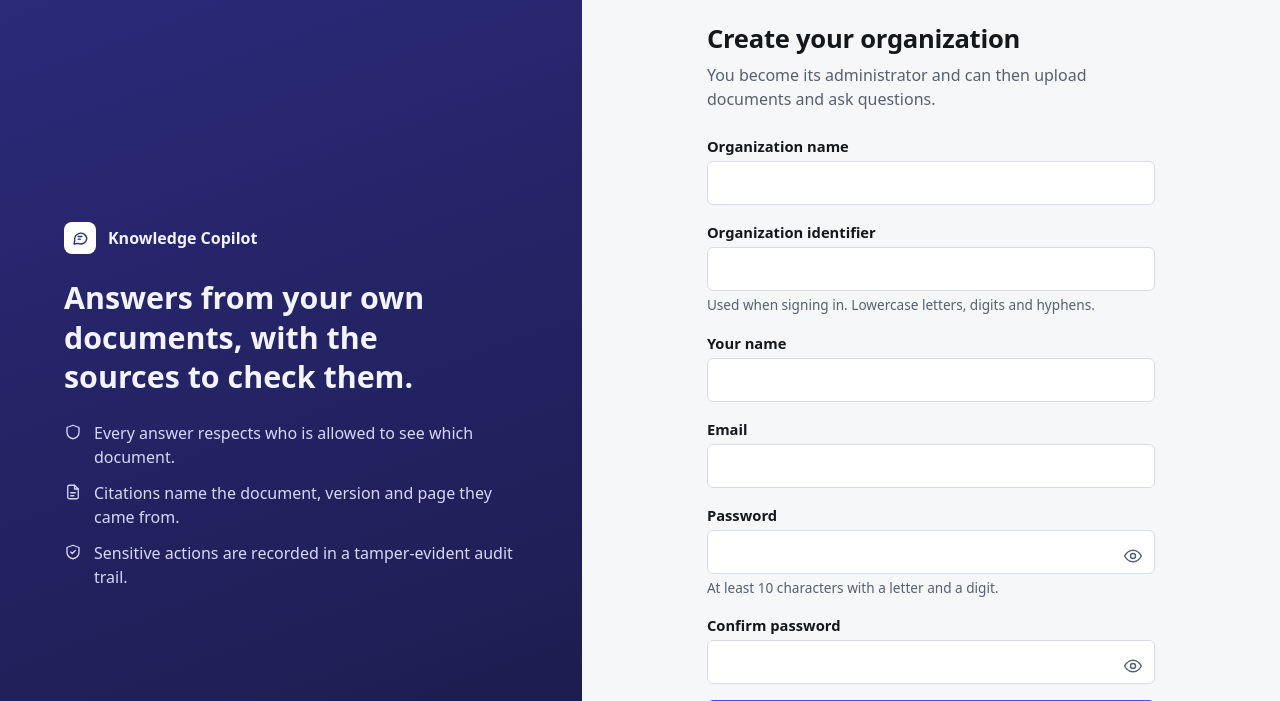
Scenario: signup › shows a taken identifier on its own field and clears the passwords
Type "Acme Inc" into the field labelled "Organization name" at (931, 183), box x1=707 y1=161 x2=1155 y2=205
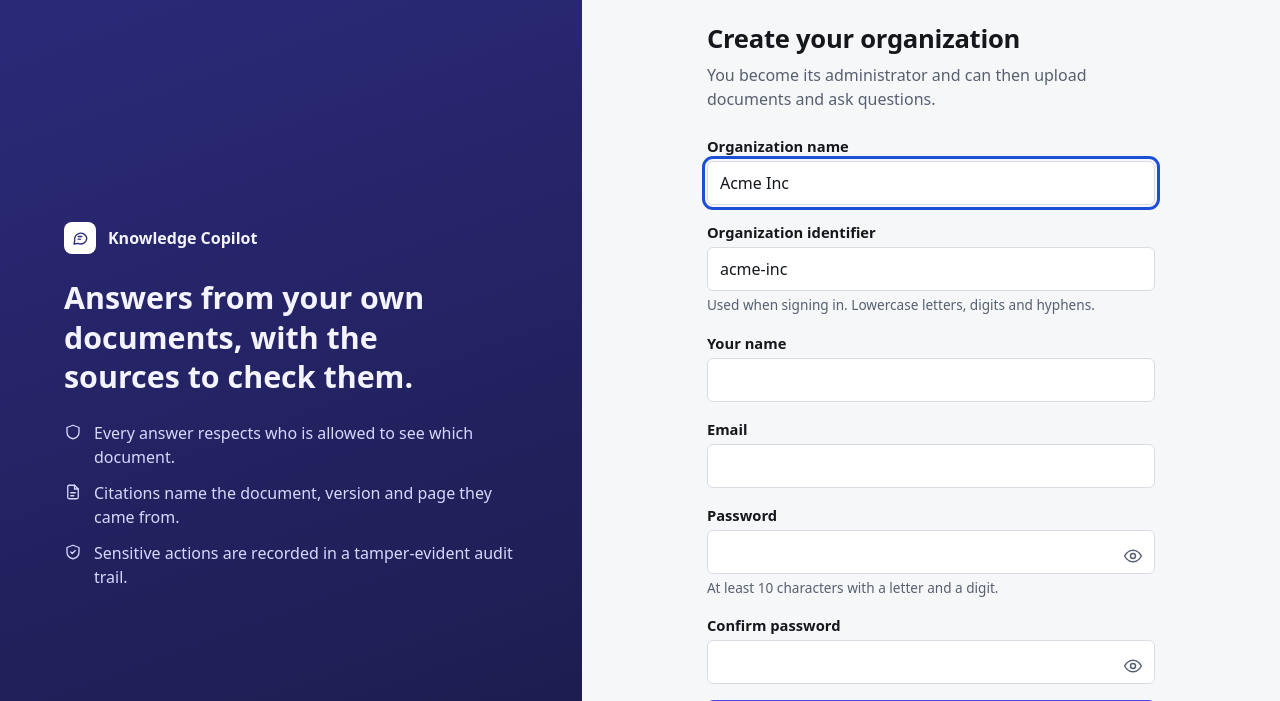
Type "Ada Lovelace" into the field labelled "Your name" at (931, 380), box x1=707 y1=358 x2=1155 y2=402
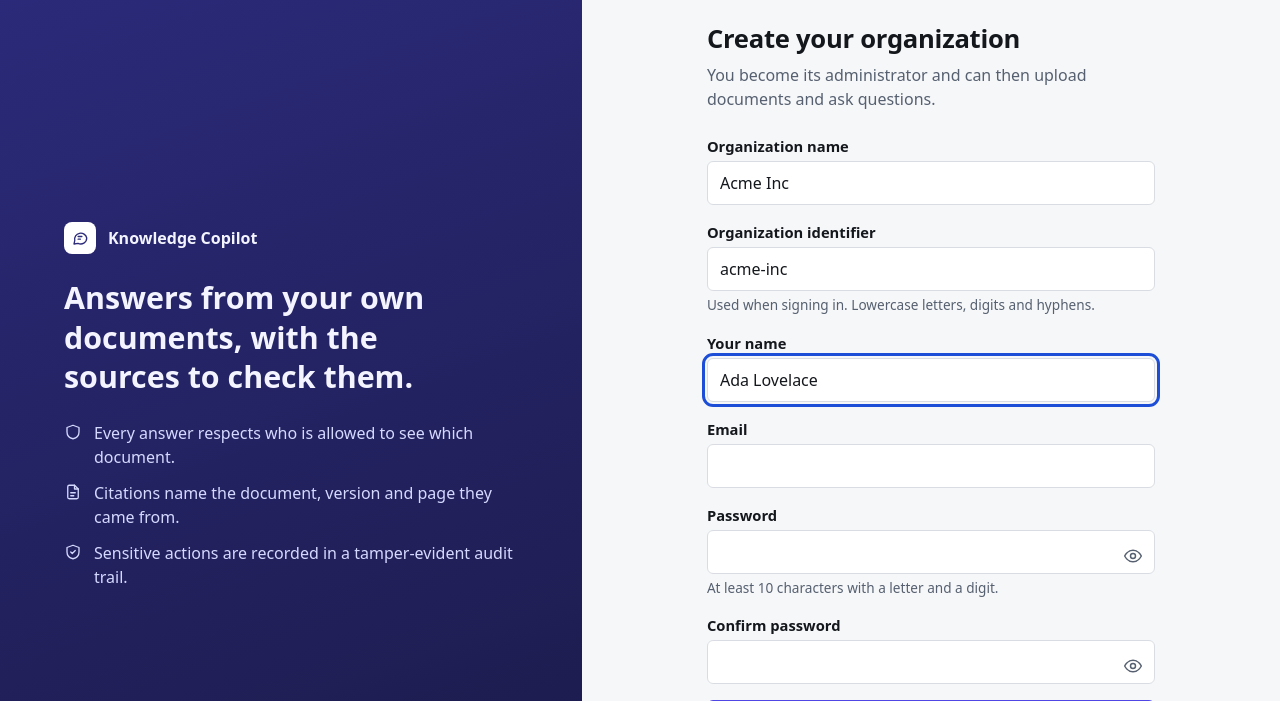
Type "ada@example.com" into the field labelled "Email" at (931, 466), box x1=707 y1=444 x2=1155 y2=488
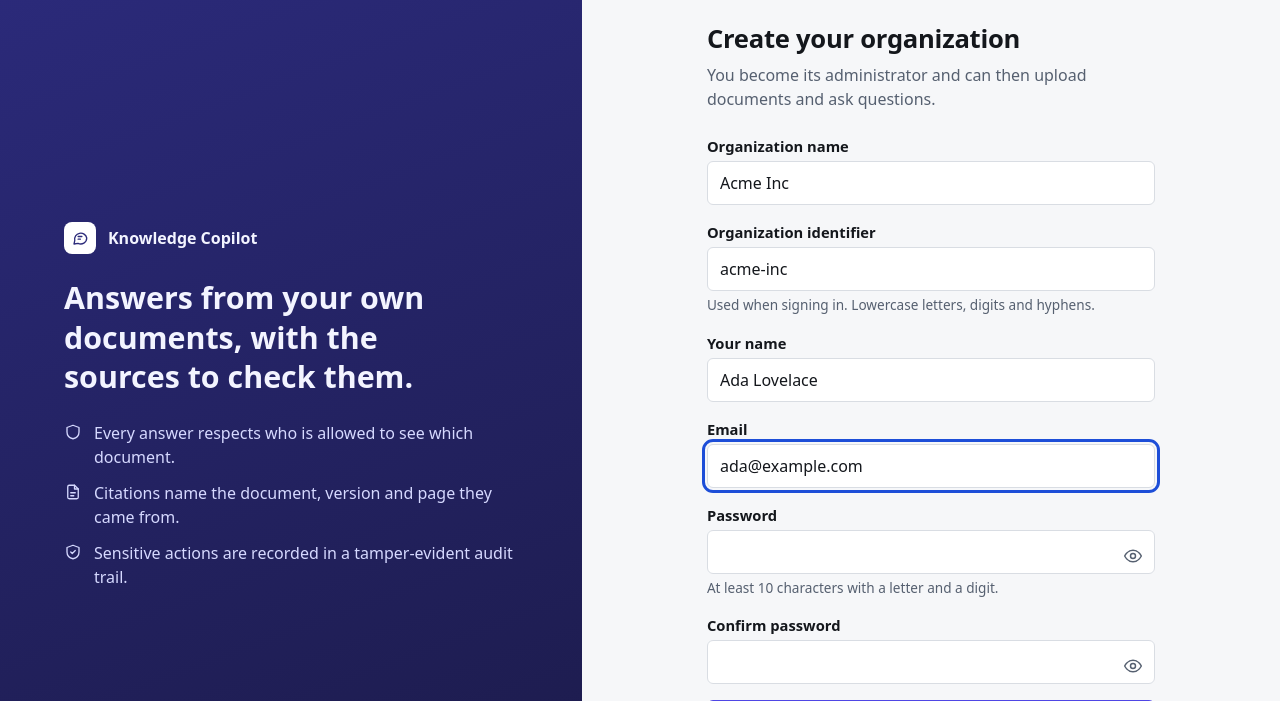
Type "correct-horse-battery-9" into the password field labelled "Password" at (931, 552), box x1=707 y1=530 x2=1155 y2=574
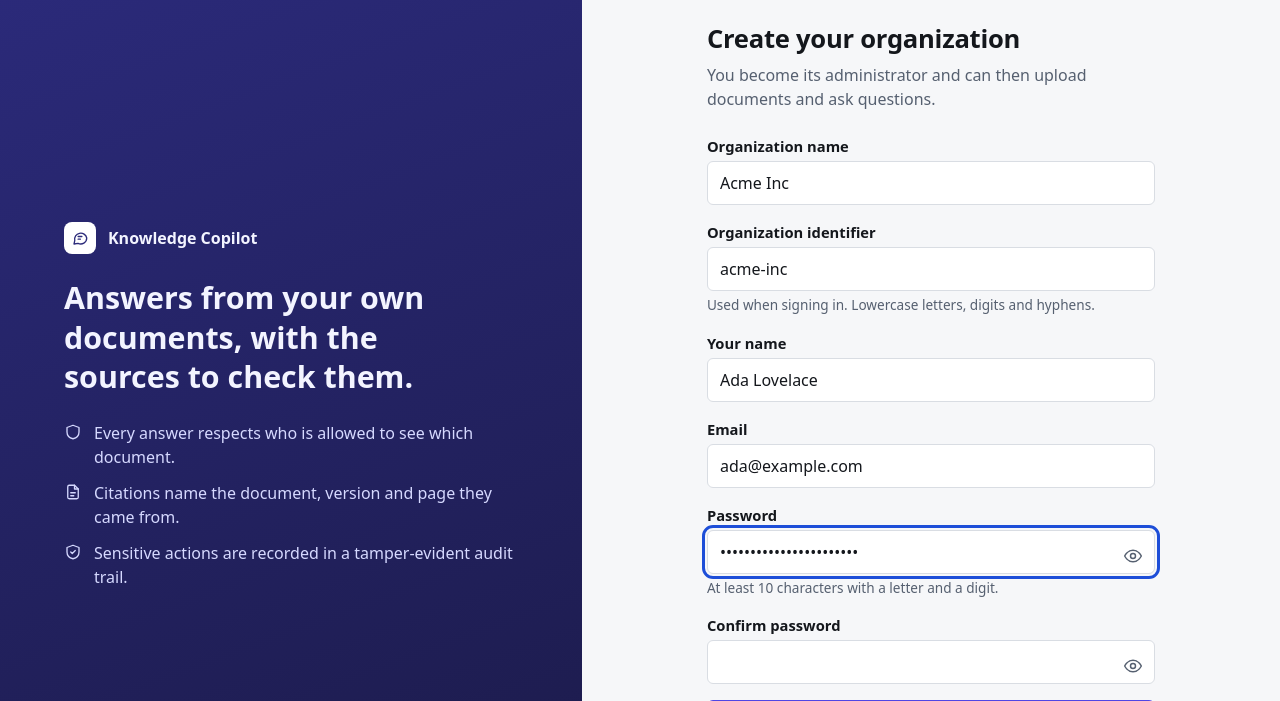
Type "correct-horse-battery-9" into the password field labelled "Confirm password" at (931, 662), box x1=707 y1=640 x2=1155 y2=684
(page scrolled)
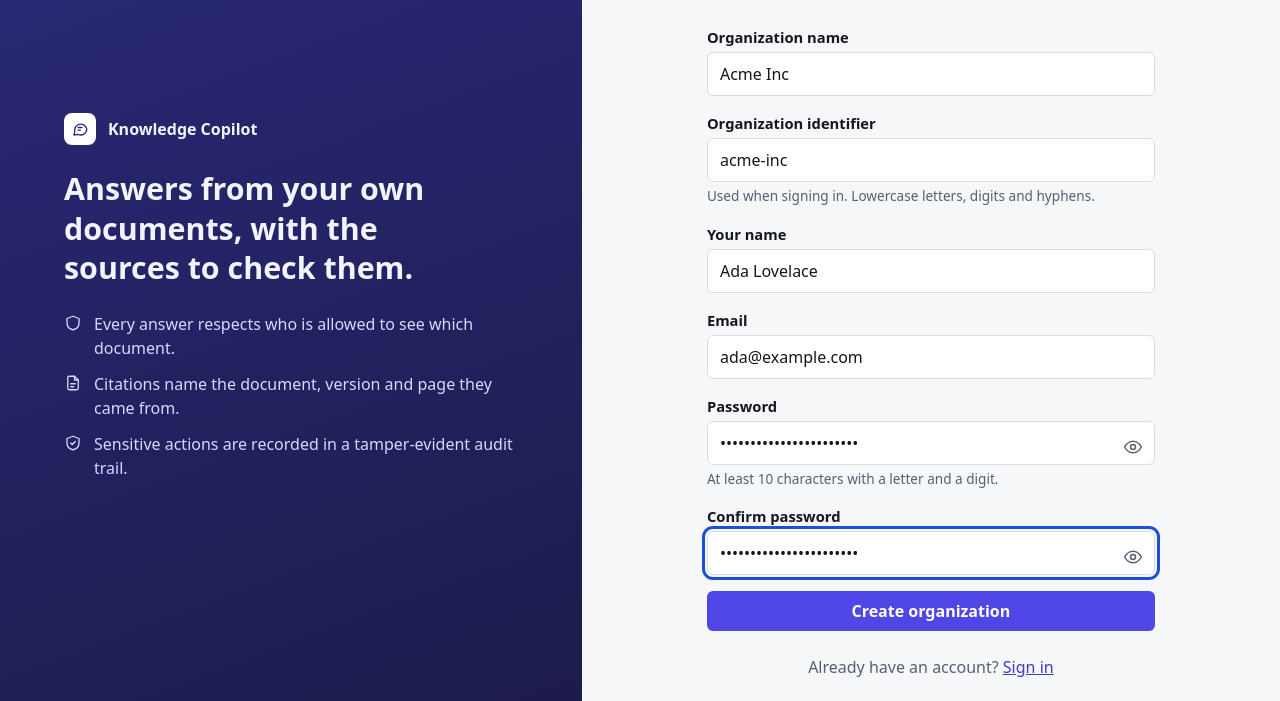
Click the button "Create organization" at (931, 611), box x1=707 y1=591 x2=1155 y2=631
(page scrolled)
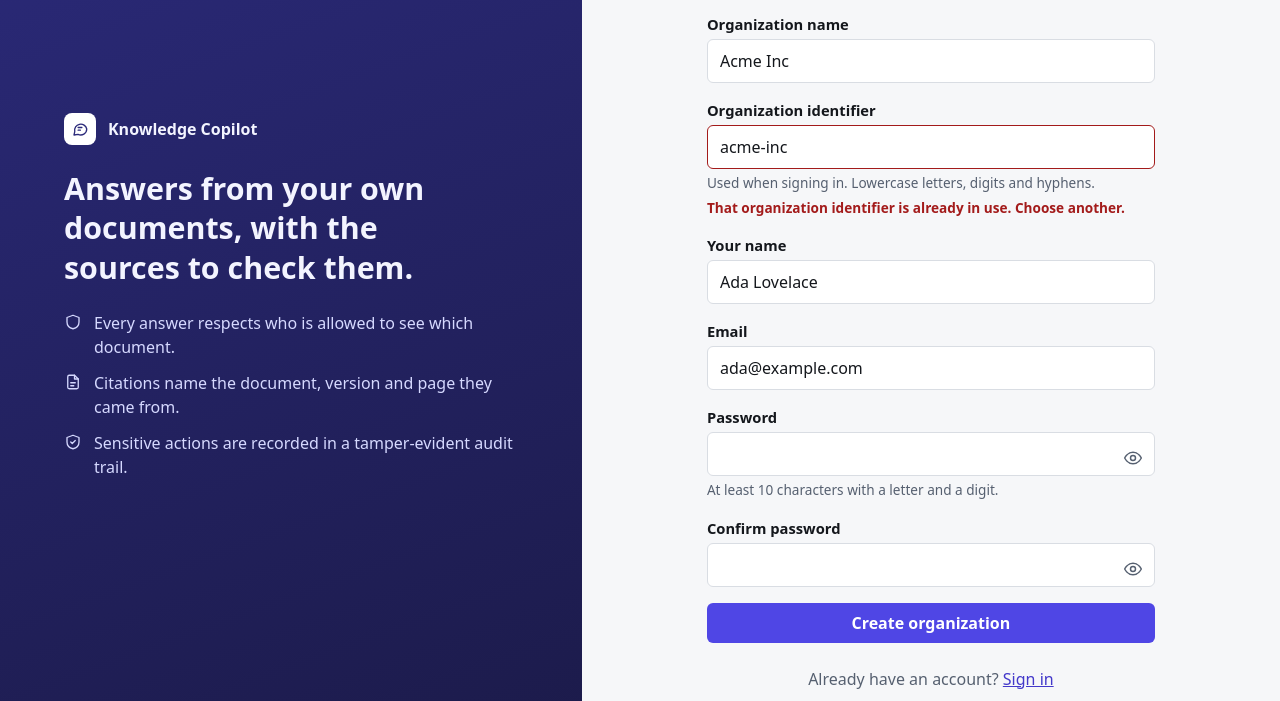
Check: the text "already in use" is shown, box x1=707 y1=198 x2=1125 y2=216
Check: the password field labelled "Password" is empty, box x1=707 y1=432 x2=1155 y2=476
